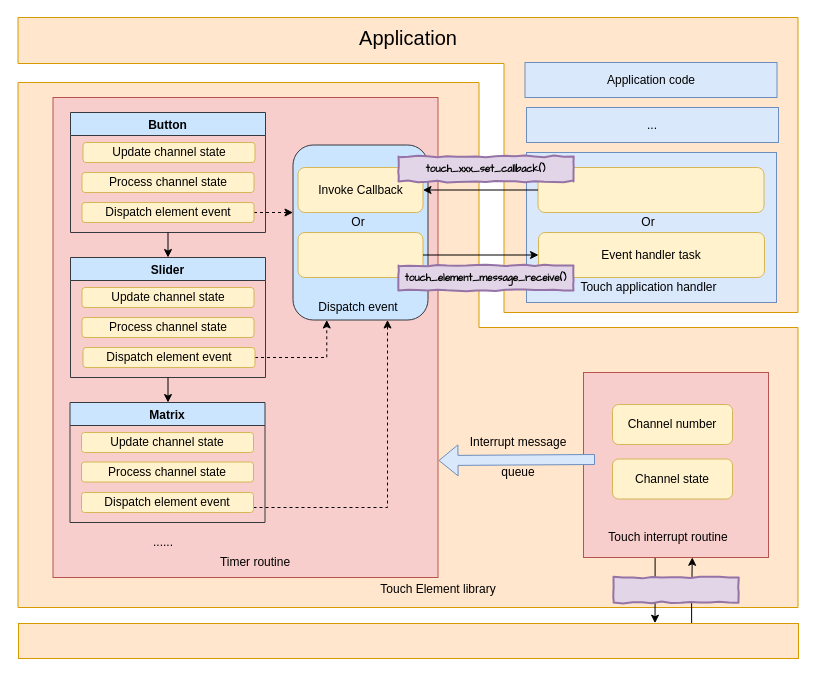
Image size: 816x676. Some labels were removed from this diagram. The centre of each missing label's shape, as x and y in pixels:
Driver: point (408, 640)
Event handler function: point (650, 189)
Send event message: point (360, 255)
touch_pad_xxx(): point (675, 589)
